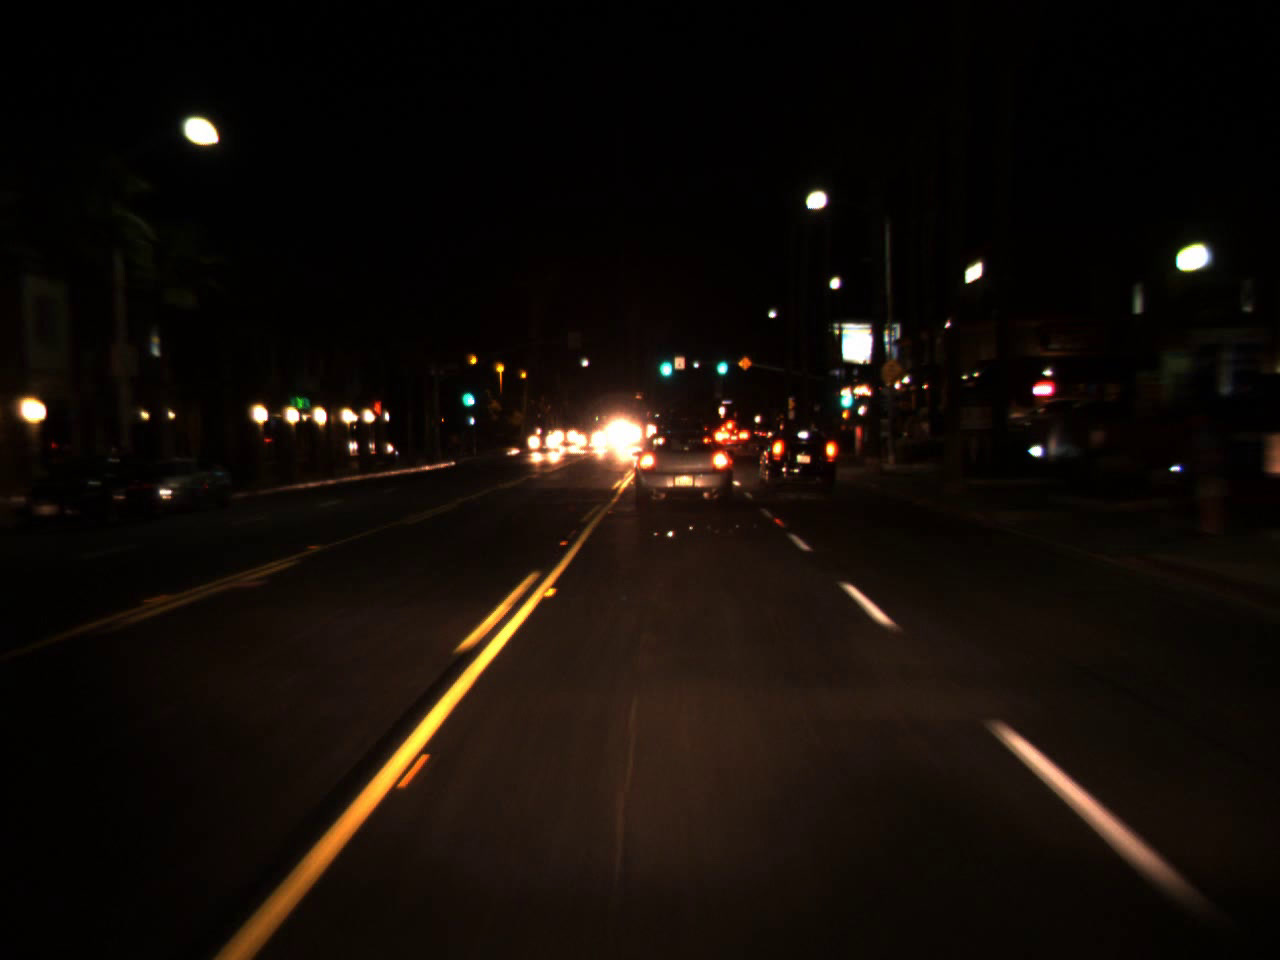go: (833, 376, 856, 412), (654, 343, 675, 382), (458, 376, 474, 412), (713, 351, 729, 375)
